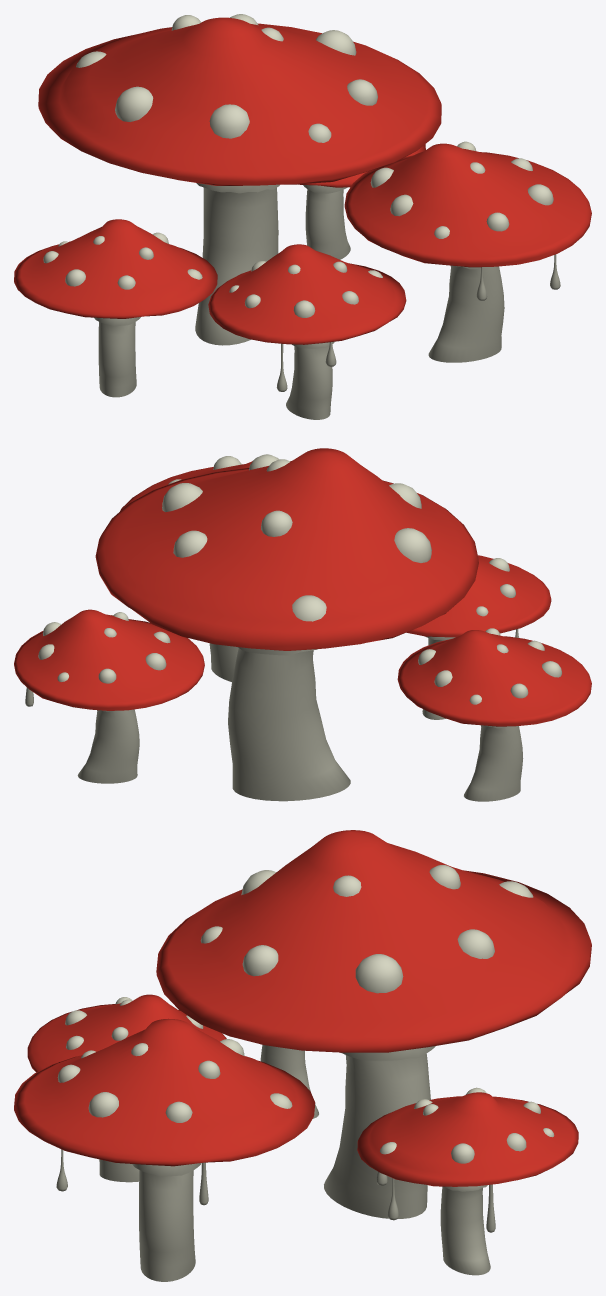
File: mantar-2.fbx
3 renders of one model, top to bottom at view 1: azimuth 30°, elevation 25°; view 2: azimuth 150°, elevation 25°; view 3: azimuth 270°, elevation 25°, orthographic. The views are drawn at different scales.
Parts seen in each view (by area): view 1: Cube.341; view 2: Cube.341; view 3: Cube.341.
Boxes of the visible parts, x1,y1,x2,y2 form: Cube.341: (14,14,591,419); Cube.341: (14,448,591,801); Cube.341: (14,830,591,1281).
Bounding box in the file's own units: 103 × 63.48 × 94.82.
